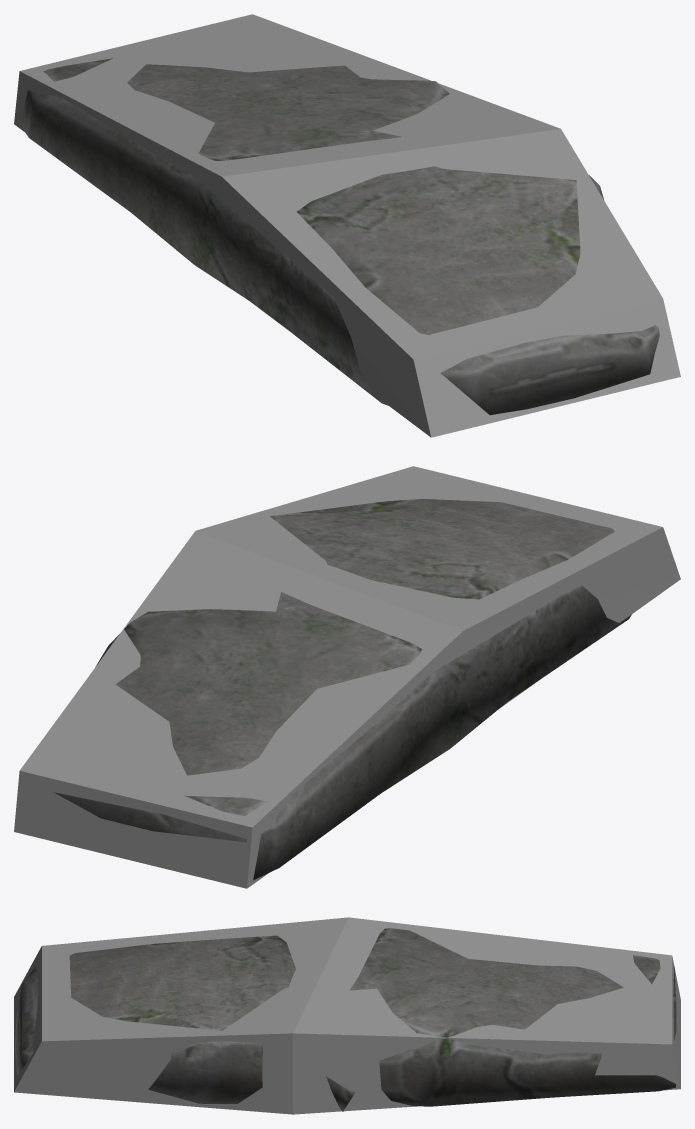
File: Scene_Rock_SuiShiTi_2.fbx
The picture shows the model from 3 angles, top to bottom: view 1: azimuth 30°, elevation 25°; view 2: azimuth 150°, elevation 25°; view 3: azimuth 270°, elevation 25°; orthographic projection. The views are drawn at different scales.
Parts seen in each view (by area): view 1: Scene_Rock_SuiShiTi_2, Scene_Rock_SuiShiTi_2_Xzm; view 2: Scene_Rock_SuiShiTi_2_Xzm, Scene_Rock_SuiShiTi_2; view 3: Scene_Rock_SuiShiTi_2_Xzm, Scene_Rock_SuiShiTi_2.
Part boxes in pixels (<box>): Scene_Rock_SuiShiTi_2: <box>20,58,659,415</box>; Scene_Rock_SuiShiTi_2_Xzm: <box>14,14,680,437</box>; Scene_Rock_SuiShiTi_2_Xzm: <box>14,466,680,888</box>; Scene_Rock_SuiShiTi_2: <box>53,499,631,880</box>; Scene_Rock_SuiShiTi_2_Xzm: <box>14,917,680,1114</box>; Scene_Rock_SuiShiTi_2: <box>14,928,676,1111</box>.
Size of the model in its own units: 85.17 by 27.96 by 202.
